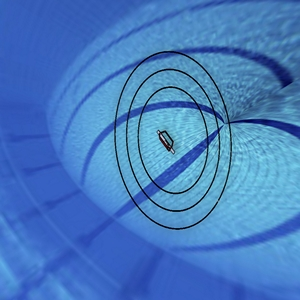circle: (103, 47, 234, 237)
submarine: (151, 123, 181, 159)
